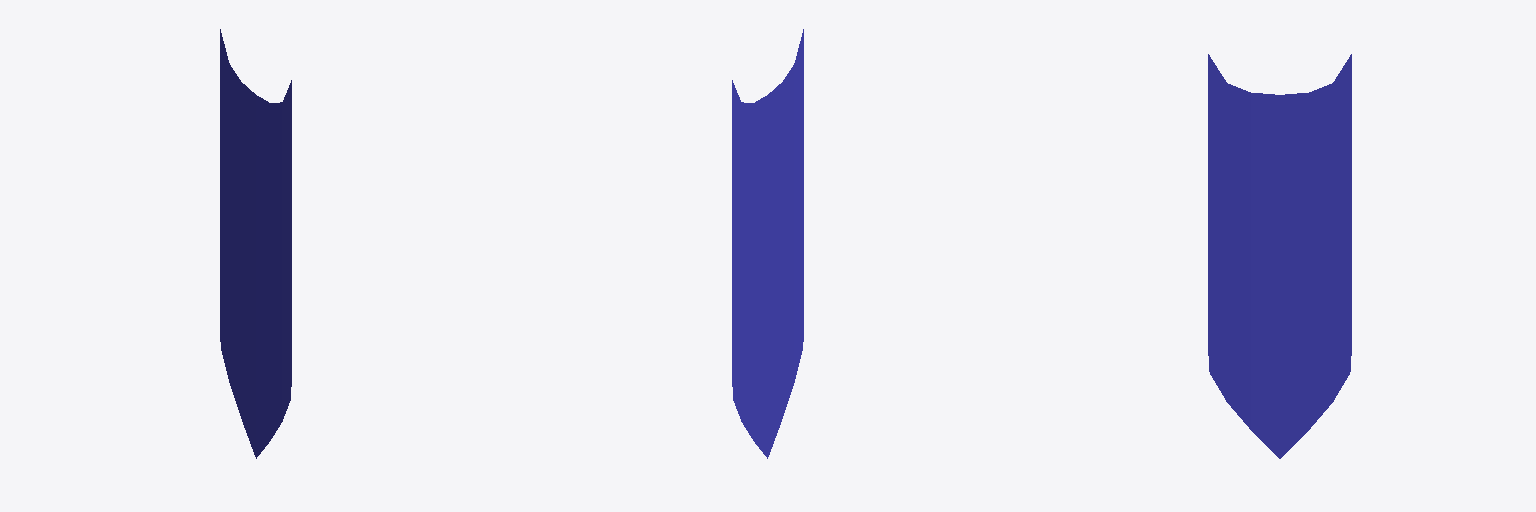
The model's file is TESTCLOTH.obj.
3 views of the same model, side by side, from view 1: azimuth 30°, elevation 25°; view 2: azimuth 150°, elevation 25°; view 3: azimuth 270°, elevation 25° (orthographic).
Parts seen in each view (by area): view 1: Plane017; view 2: Plane017; view 3: Plane017.
Part boxes in pixels (x1,y1,x2,y2): Plane017: (220,29,291,458); Plane017: (732,29,803,458); Plane017: (1208,54,1351,458).
Bounding box in the file's own units: 0.0249 × 42.93 × 13.83.